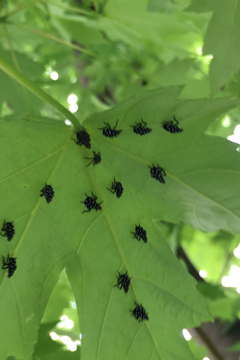instar nymph (1-3): (81, 191, 105, 213), (1, 253, 22, 277), (98, 118, 124, 136), (148, 162, 169, 184), (71, 127, 92, 147), (160, 115, 183, 133), (106, 175, 123, 196), (116, 269, 132, 291), (131, 304, 149, 322), (132, 223, 149, 242), (129, 118, 152, 132), (0, 220, 16, 240), (39, 181, 53, 202), (83, 151, 104, 165)
